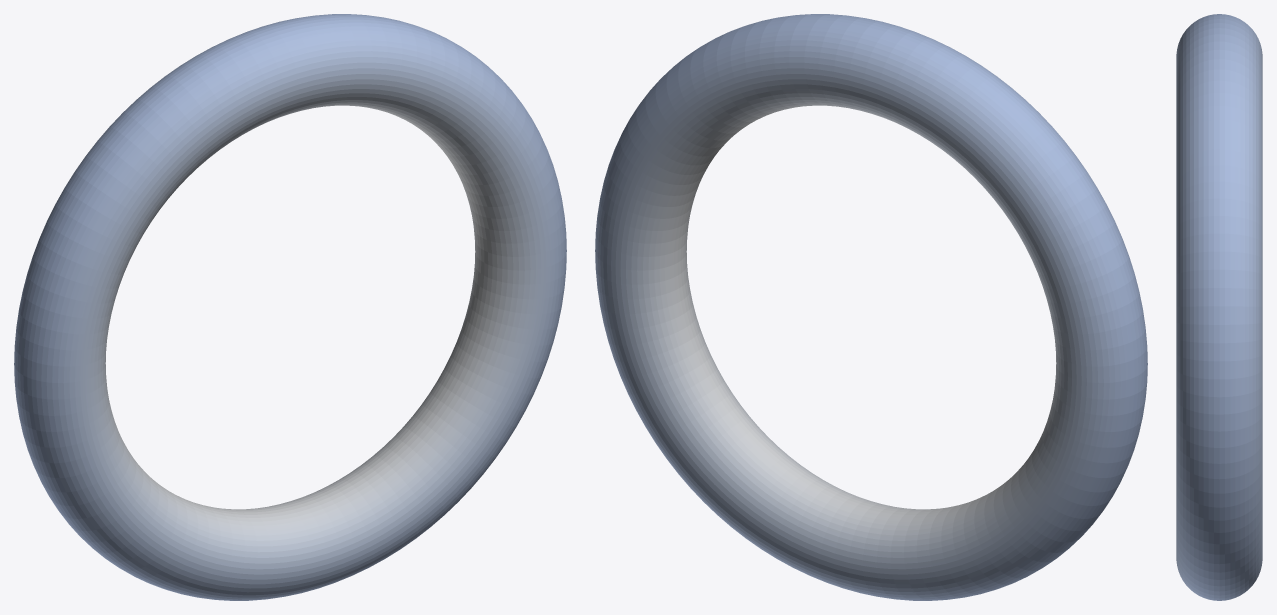
3 renders of one model, left to right at view 1: azimuth 30°, elevation 25°; view 2: azimuth 150°, elevation 25°; view 3: azimuth 270°, elevation 25°, orthographic. The views are drawn at different scales.
Visible parts, largest first — view 1: world; view 2: world; view 3: world.
Part boxes in pixels (bbox=[...]): world: bbox=[14, 14, 566, 600]; world: bbox=[595, 14, 1147, 600]; world: bbox=[1176, 14, 1262, 600].
Bounding box in the file's own units: 28.13 × 28.13 × 4.13.
